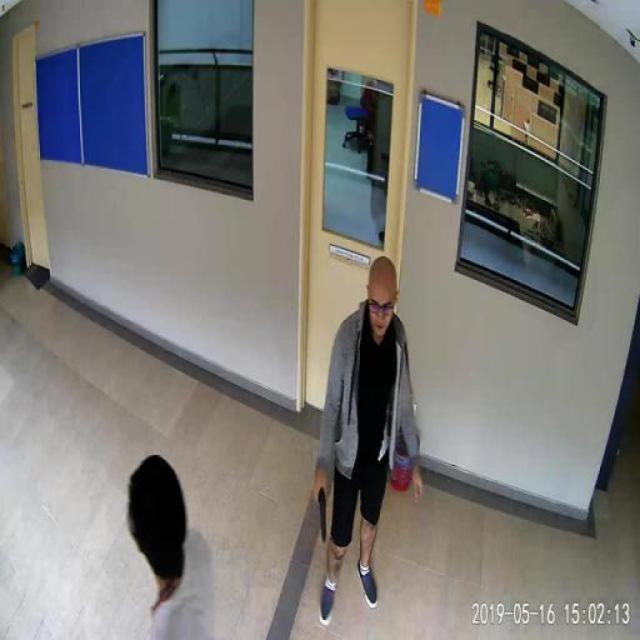pistol: (312, 480, 326, 540)
